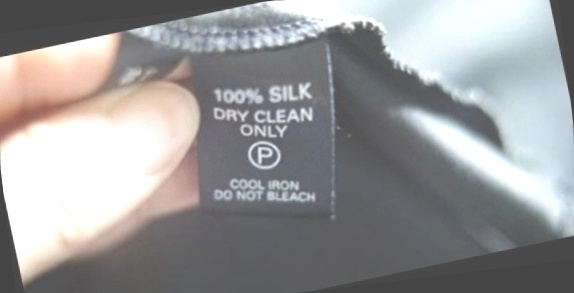dry_clean_any_solvent_except_trichloroethylene: (243, 133, 288, 176)
